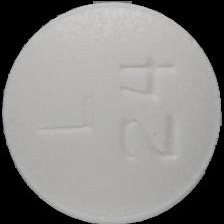53808-0104: (0, 0, 224, 224)
